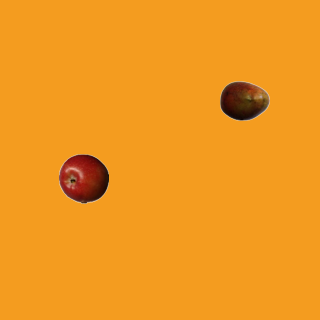Apple Braeburn: (58, 153, 108, 203)
Mango Red: (219, 75, 269, 125)
